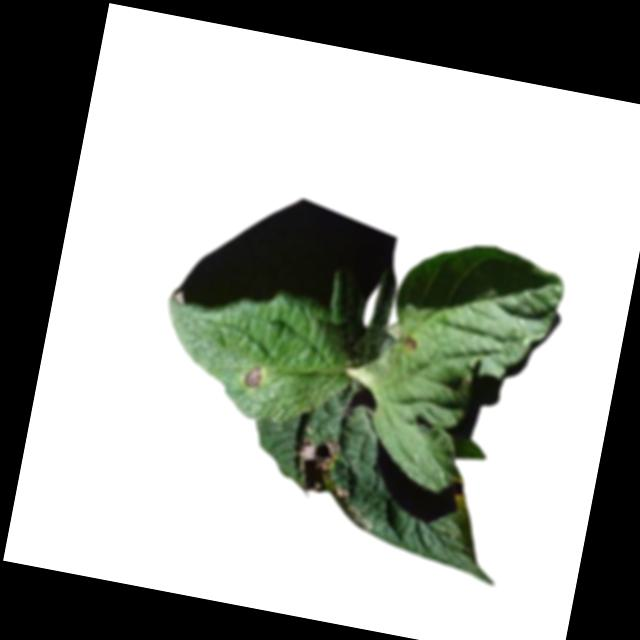Early_blight: (291, 433, 345, 499), (243, 365, 262, 389), (403, 337, 418, 354)
